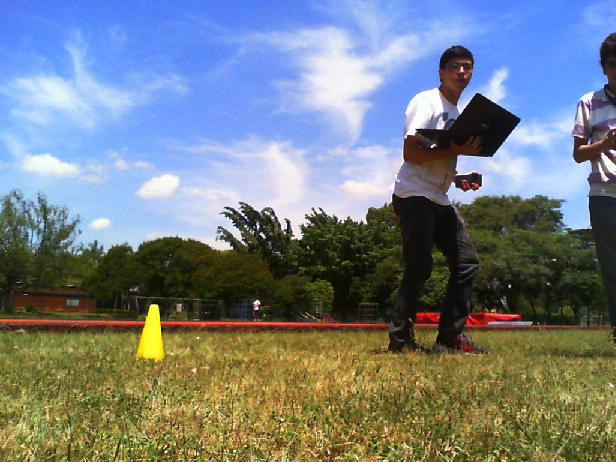0 cone: (136, 304, 166, 361)
